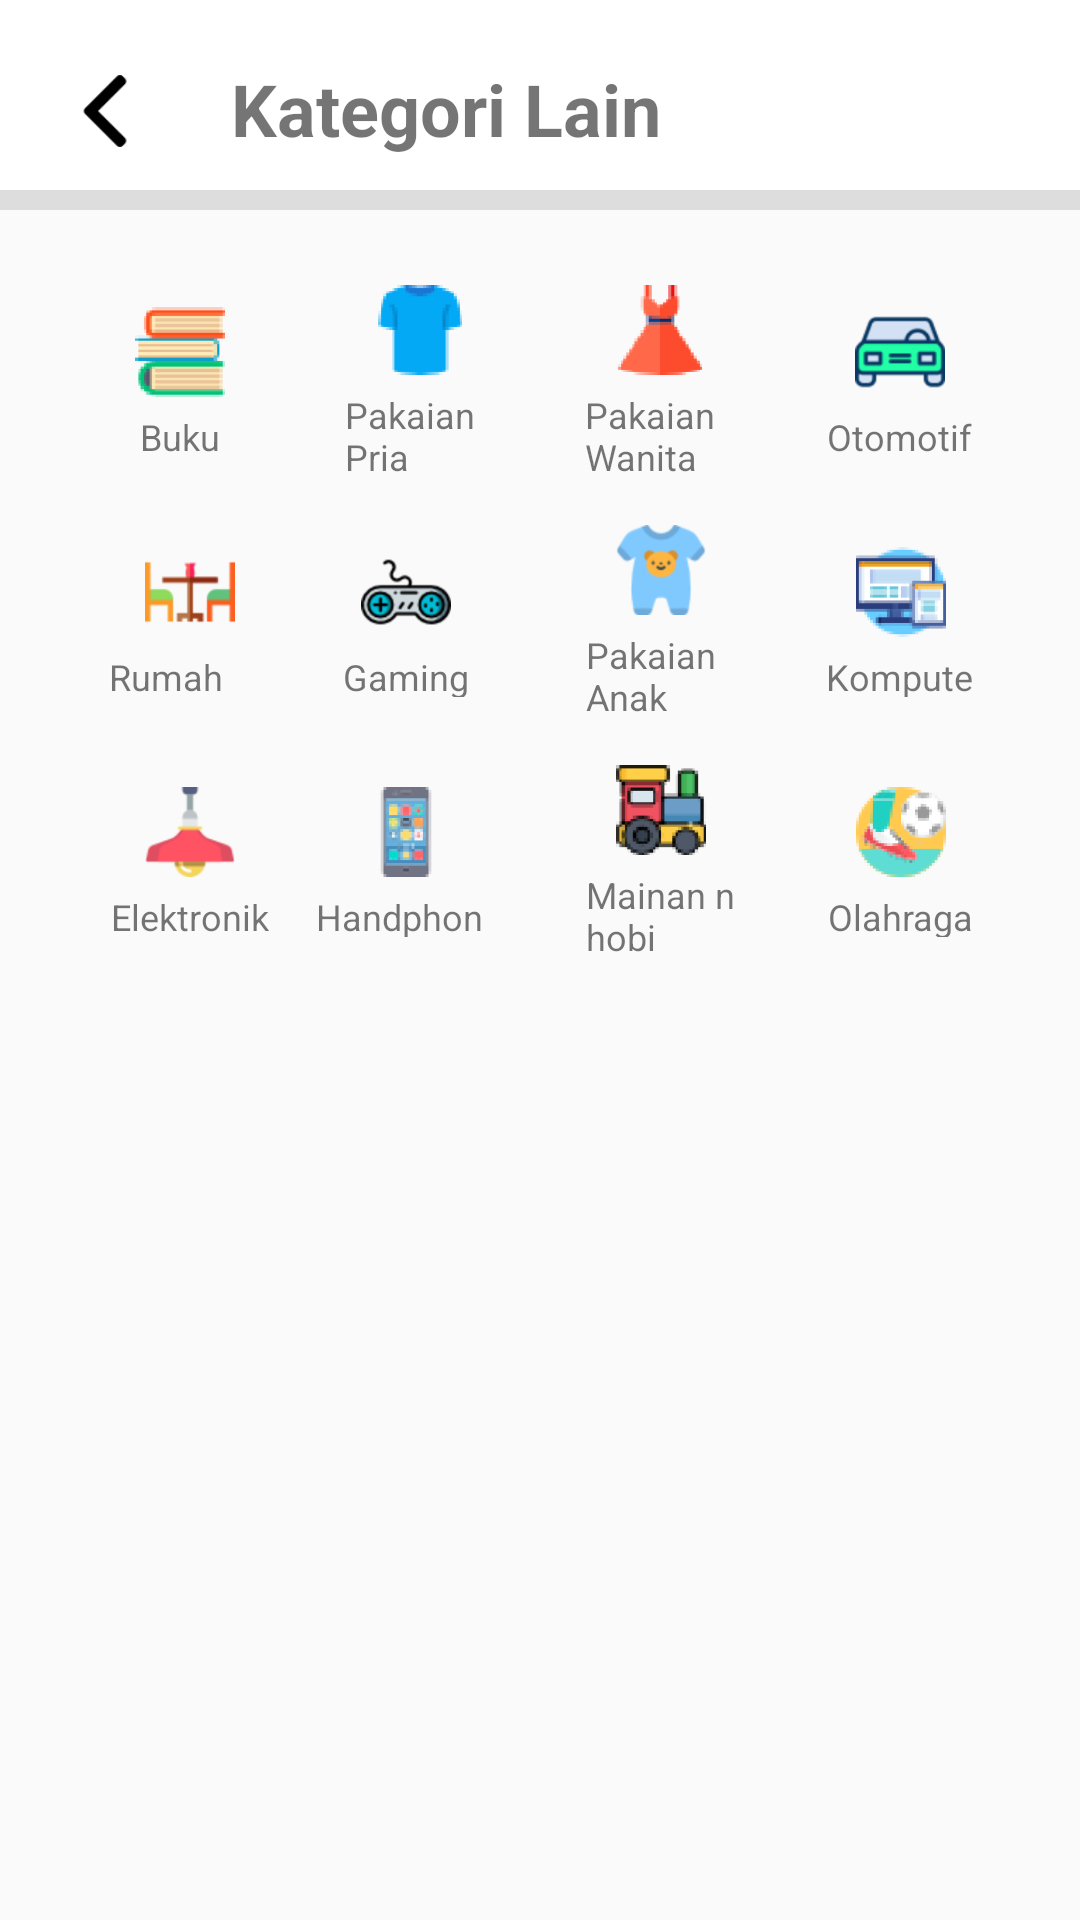

Icons on this 1080px x 1920px Android screen, each with its box as (x1,y1,x2,y2):
car: (855,316,945,388)
dress: (618,285,702,375)
football: (856,787,946,877)
game controller: (361,559,451,625)
kitchen table: (145,562,235,622)
lamp: (145,787,234,877)
left arrow: (83,75,127,147)
onesie: (617,525,705,615)
responsive: (856,547,946,637)
shirt: (378,285,462,375)
